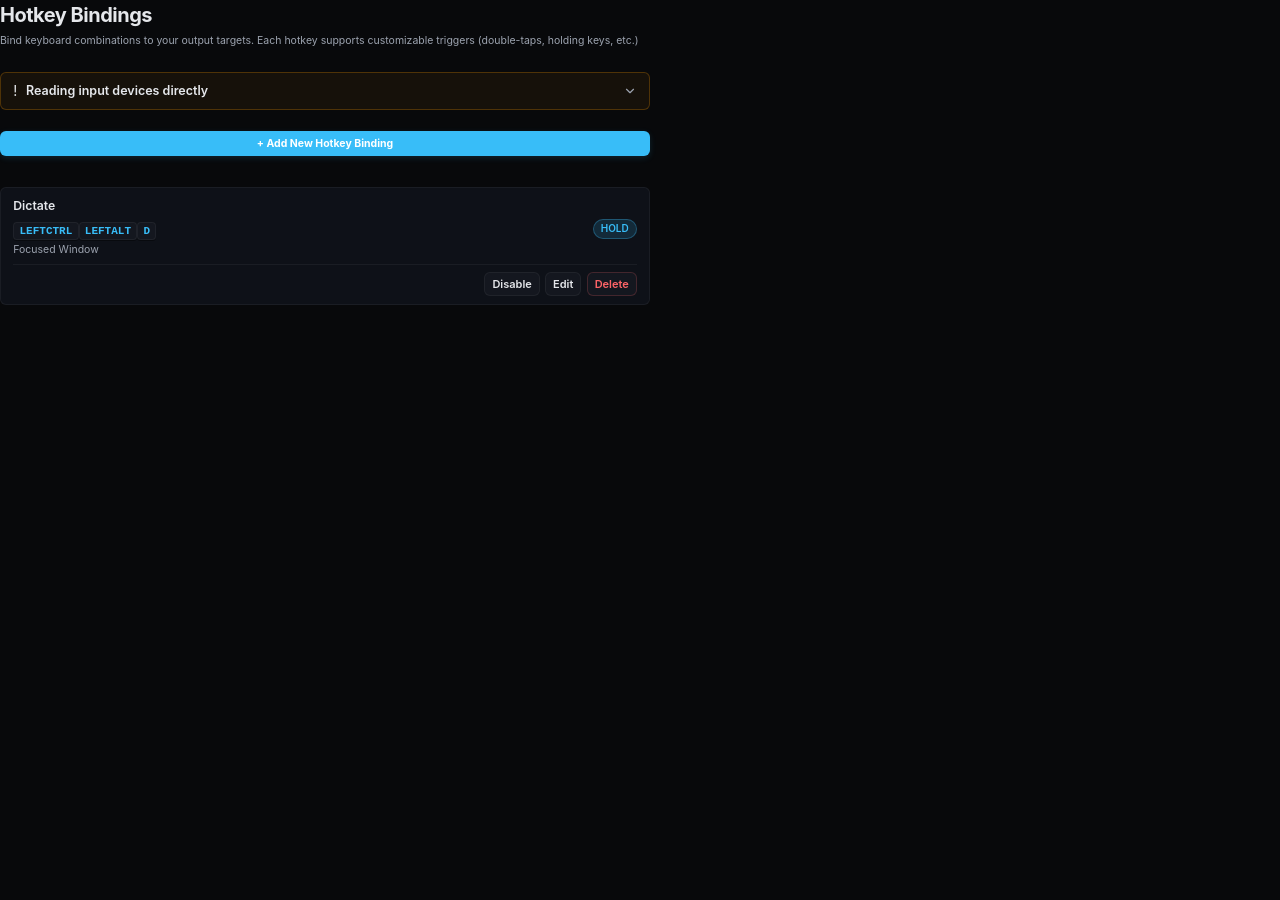
Scenario: HotkeysTab.svelte Conflict Detection and Nested Modal › does not block bare modifiers when FotonVoice Engine watches the keyboard itself
This screenshot has width=1280, height=900.
Click the button "Edit" at (563, 284), box [545,272,581,296]
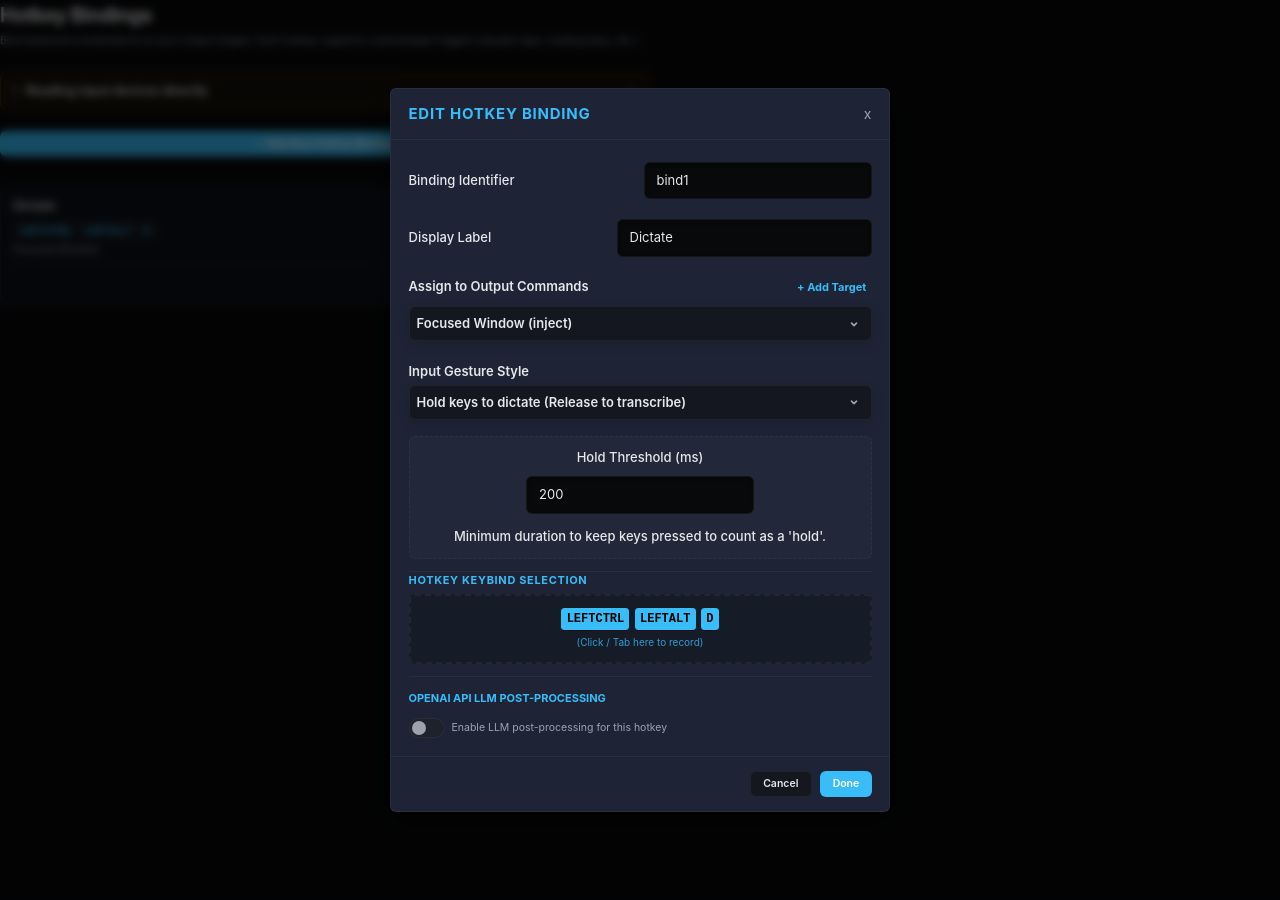
Focus the button with aria-label "Base Hotkey recorder input" at (640, 629), box [408,594,872,664]
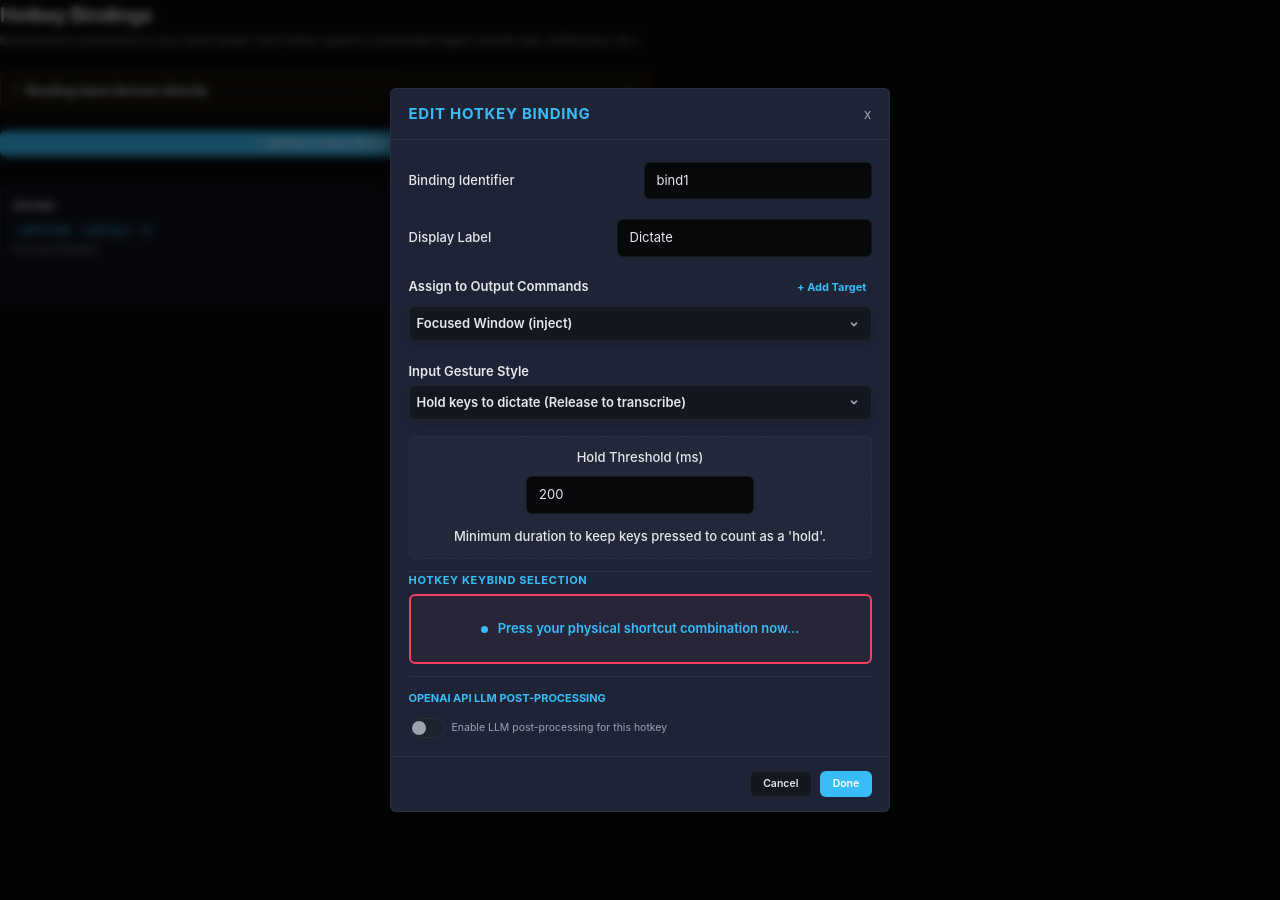
Press Meta in the button with aria-label "Base Hotkey recorder input", box [408,594,872,664]
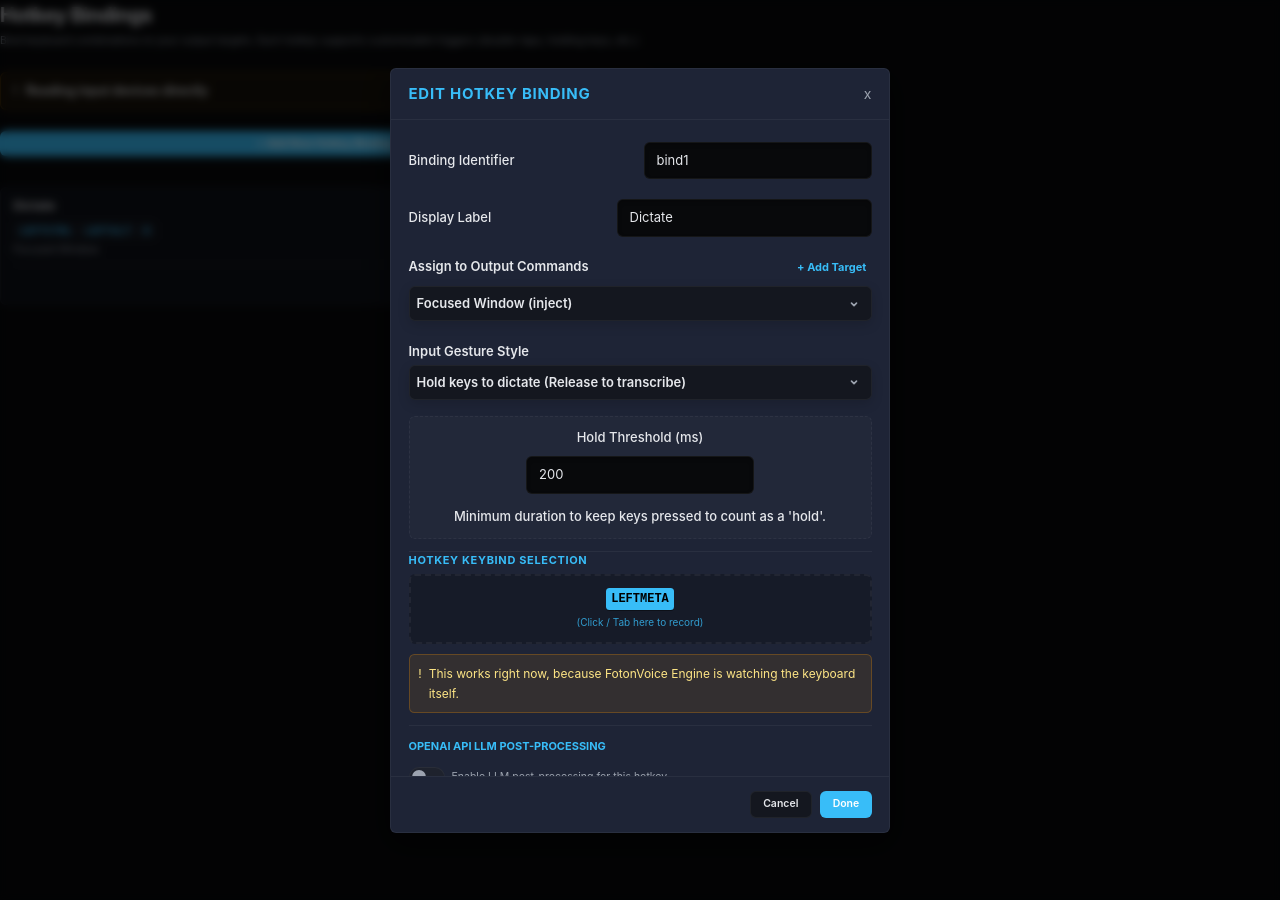
Check: the text "watching the keyboard itself" is shown, box [429,666,855,701]
Check: the text "LEFTMETA" is shown, box [606,588,674,610]
